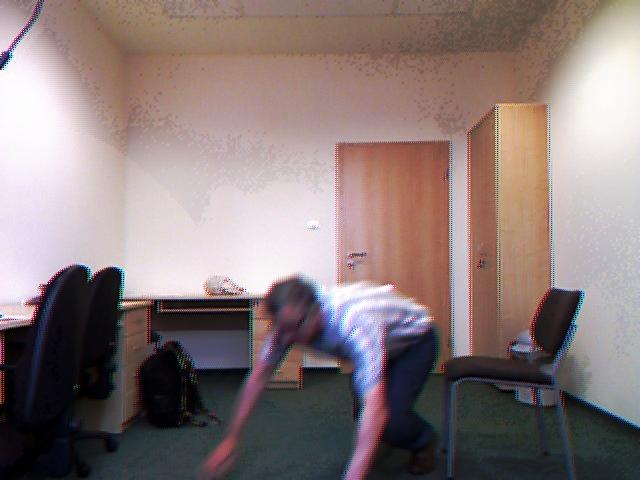fall: (193, 260, 455, 480)
